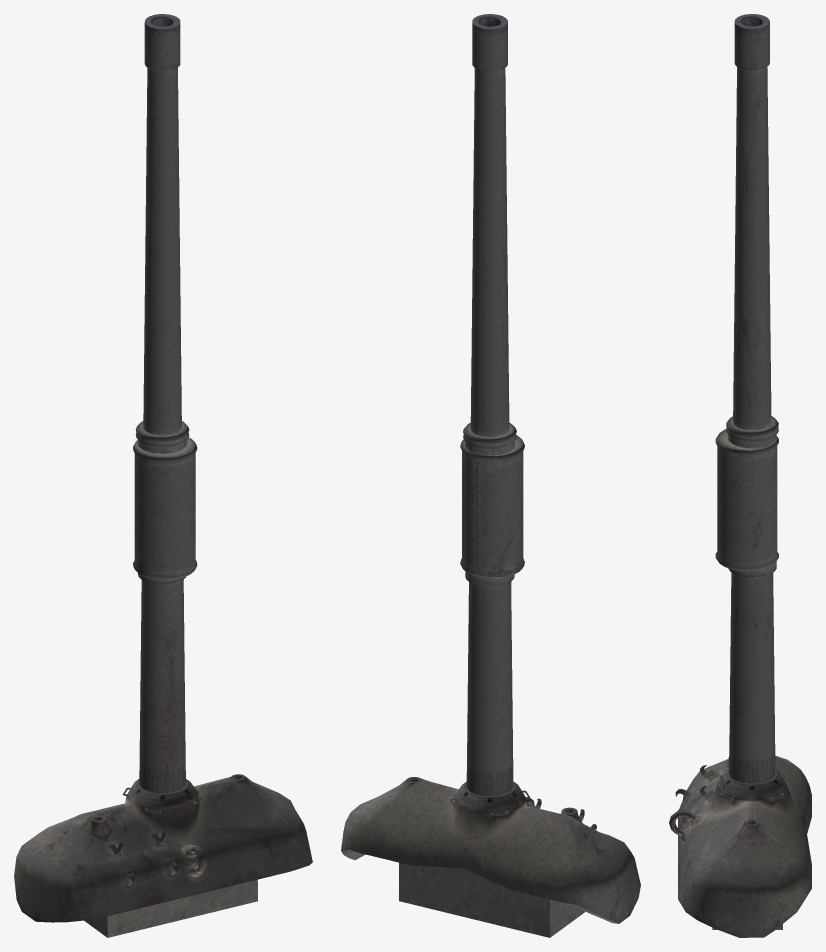
File: Gun_01.glb
3 views of the same model, side by side, from view 1: azimuth 30°, elevation 25°; view 2: azimuth 150°, elevation 25°; view 3: azimuth 270°, elevation 25° (orthographic).
Visible parts, largest first — view 1: set_0_group_0; view 2: set_0_group_0; view 3: set_0_group_0.
Part boxes in pixels (x1,y1,x2,y2): set_0_group_0: (14, 14, 312, 937); set_0_group_0: (341, 14, 640, 937); set_0_group_0: (669, 14, 811, 937).
Bounding box in the file's own units: 1.42 × 4.44 × 0.6594.
1 material, 1 textured.
